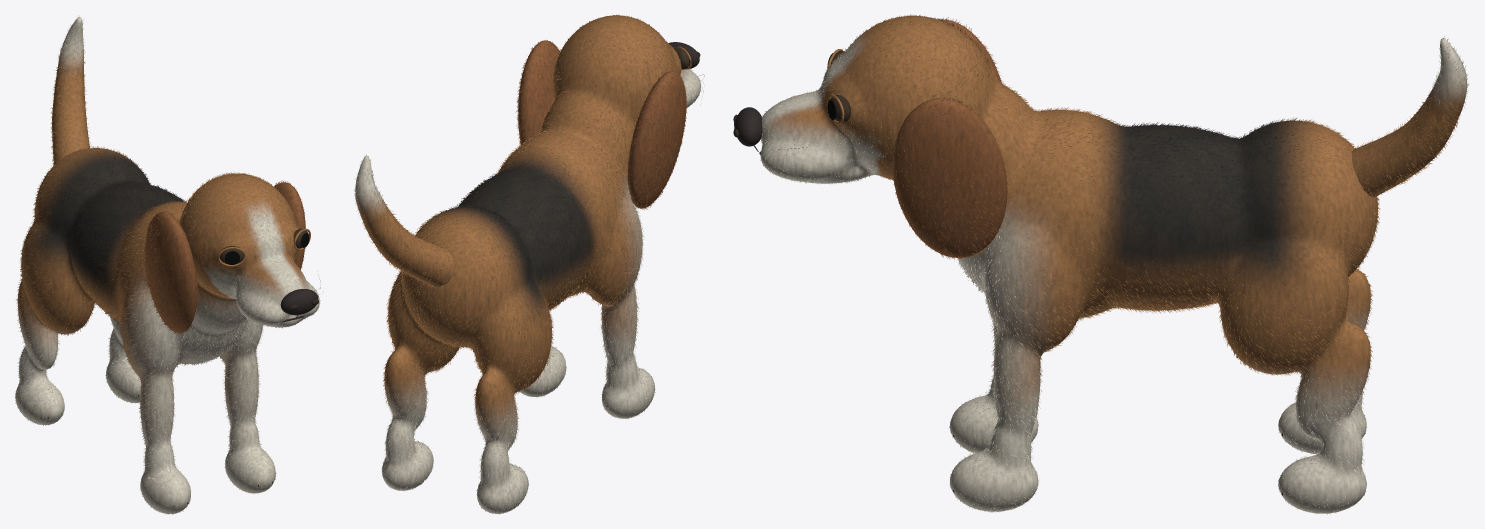
Rendered from Cachorro_Beagle.fbx.
3 views of the same model, side by side, from view 1: azimuth 30°, elevation 25°; view 2: azimuth 150°, elevation 25°; view 3: azimuth 270°, elevation 25° (orthographic). The views are drawn at different scales.
Parts seen in each view (by area): view 1: Cachorro_Beagle, Cachorro_Beagle_GuardHairs; view 2: Cachorro_Beagle, Cachorro_Beagle_GuardHairs; view 3: Cachorro_Beagle, Cachorro_Beagle_GuardHairs.
Boxes of the visible parts, x1,y1,x2,y2 form: Cachorro_Beagle: (15,17,323,513); Cachorro_Beagle_GuardHairs: (15,15,320,514); Cachorro_Beagle: (355,15,704,513); Cachorro_Beagle_GuardHairs: (353,14,701,514); Cachorro_Beagle: (733,15,1467,513); Cachorro_Beagle_GuardHairs: (760,14,1469,514).
Size of the model in its own units: 0.7305 by 1.72 by 2.42.
Materials: 2 (2 with a texture image).
